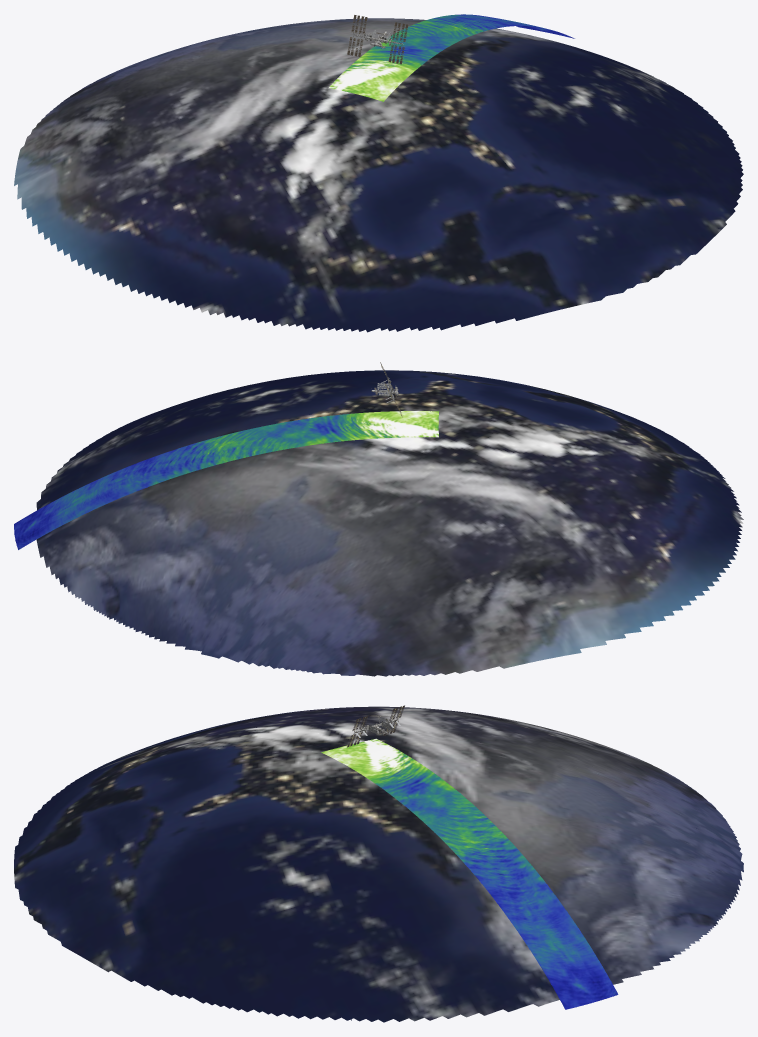
Rendered from usdz-mobile-globe-detail-fixed.opt.glb.
3 views of the same model, one above another, from view 1: azimuth 30°, elevation 25°; view 2: azimuth 150°, elevation 25°; view 3: azimuth 270°, elevation 25° (orthographic). The views are drawn at different scales.
Visible parts, largest first — view 1: radiance-AWE-May-26th-mix-GLOBE-UV-ECEF-wgs84-0001_obj_20260, AWE_swath_20260311.001_mobile_fixed, 08 P6 Truss_01_20260311.001_mobile_fixed; view 2: radiance-AWE-May-26th-mix-GLOBE-UV-ECEF-wgs84-0001_obj_20260, AWE_swath_20260311.001_mobile_fixed; view 3: radiance-AWE-May-26th-mix-GLOBE-UV-ECEF-wgs84-0001_obj_20260, AWE_swath_20260311.001_mobile_fixed, 01 Zarya - (FGB) Funtional Cargo Block_20260311.001_mobile_f.
Boxes of the visible parts, x1=… form: radiance-AWE-May-26th-mix-GLOBE-UV-ECEF-wgs84-0001_obj_20260: x1=14, y1=18, x2=743, y2=332; AWE_swath_20260311.001_mobile_fixed: x1=328, y1=14, x2=574, y2=101; 08 P6 Truss_01_20260311.001_mobile_fixed: x1=347, y1=15, x2=408, y2=64; radiance-AWE-May-26th-mix-GLOBE-UV-ECEF-wgs84-0001_obj_20260: x1=36, y1=370, x2=743, y2=676; AWE_swath_20260311.001_mobile_fixed: x1=14, y1=411, x2=439, y2=549; radiance-AWE-May-26th-mix-GLOBE-UV-ECEF-wgs84-0001_obj_20260: x1=14, y1=706, x2=743, y2=1022; AWE_swath_20260311.001_mobile_fixed: x1=321, y1=738, x2=618, y2=1009; 01 Zarya - (FGB) Funtional Cargo Block_20260311.001_mobile_f: x1=347, y1=705, x2=404, y2=747.
Size of the model in its own units: 0.6856 by 0.163 by 0.6824.
29 materials, 23 textured.
